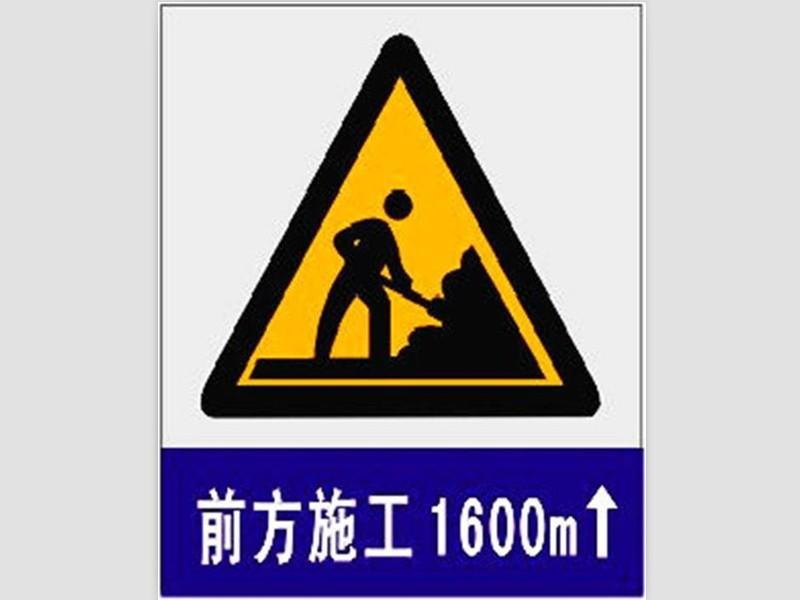sign: (167, 20, 629, 576)
